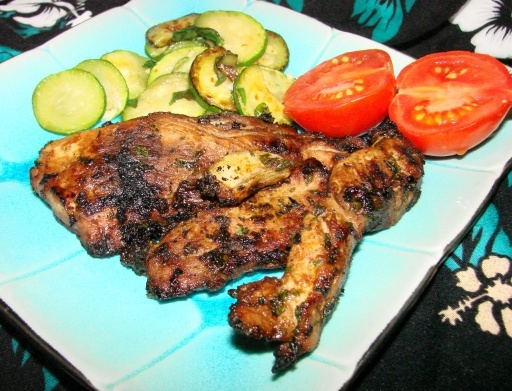background: (23, 5, 409, 227)
